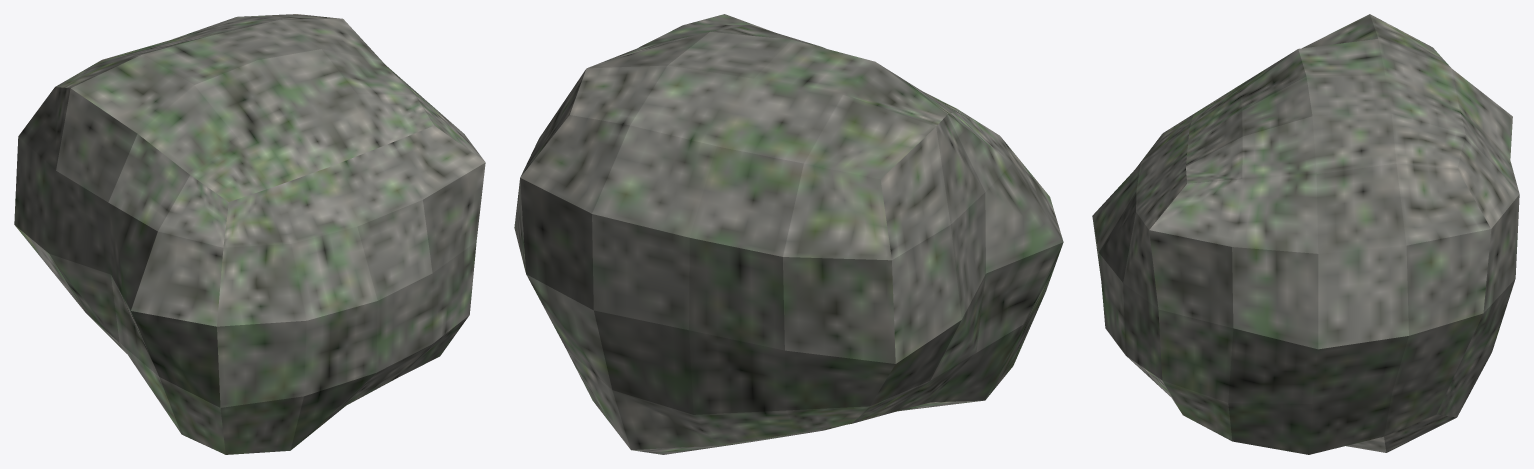
The model's file is SM_EC_Rock_69.fbx.
3 views of the same model, side by side, from view 1: azimuth 30°, elevation 25°; view 2: azimuth 150°, elevation 25°; view 3: azimuth 270°, elevation 25° (orthographic). The views are drawn at different scales.
Parts seen in each view (by area): view 1: SM_EC_Rock_69; view 2: SM_EC_Rock_69; view 3: SM_EC_Rock_69.
Part boxes in pixels (x1=…): SM_EC_Rock_69: x1=14, y1=14, x2=485, y2=454; SM_EC_Rock_69: x1=514, y1=14, x2=1063, y2=454; SM_EC_Rock_69: x1=1092, y1=14, x2=1519, y2=454.
Size of the model in its own units: 0.5672 by 0.5319 by 0.4707.
